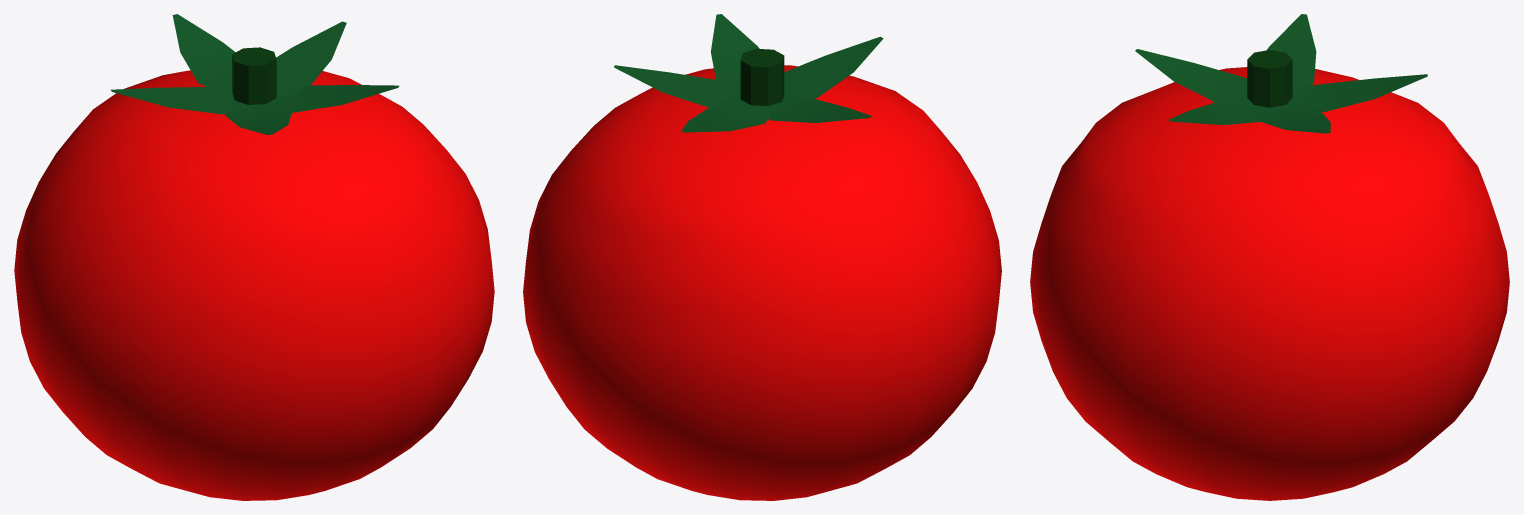
File: a_tomato.glb
3 renders of one model, left to right at view 1: azimuth 30°, elevation 25°; view 2: azimuth 150°, elevation 25°; view 3: azimuth 270°, elevation 25°, orthographic.
Visible parts, largest first — view 1: Object_2, Object_3, Object_4; view 2: Object_2, Object_3, Object_4; view 3: Object_2, Object_3, Object_4.
Boxes of the visible parts, bbox=[...] form: Object_2: bbox=[14, 70, 494, 500]; Object_3: bbox=[111, 14, 398, 134]; Object_4: bbox=[232, 47, 276, 104]; Object_2: bbox=[523, 65, 1001, 500]; Object_3: bbox=[614, 14, 883, 132]; Object_4: bbox=[740, 48, 784, 106]; Object_2: bbox=[1030, 67, 1509, 500]; Object_3: bbox=[1135, 14, 1427, 133]; Object_4: bbox=[1247, 50, 1292, 107].
Bounding box in the file's own units: 11.26 × 10.79 × 11.26.
